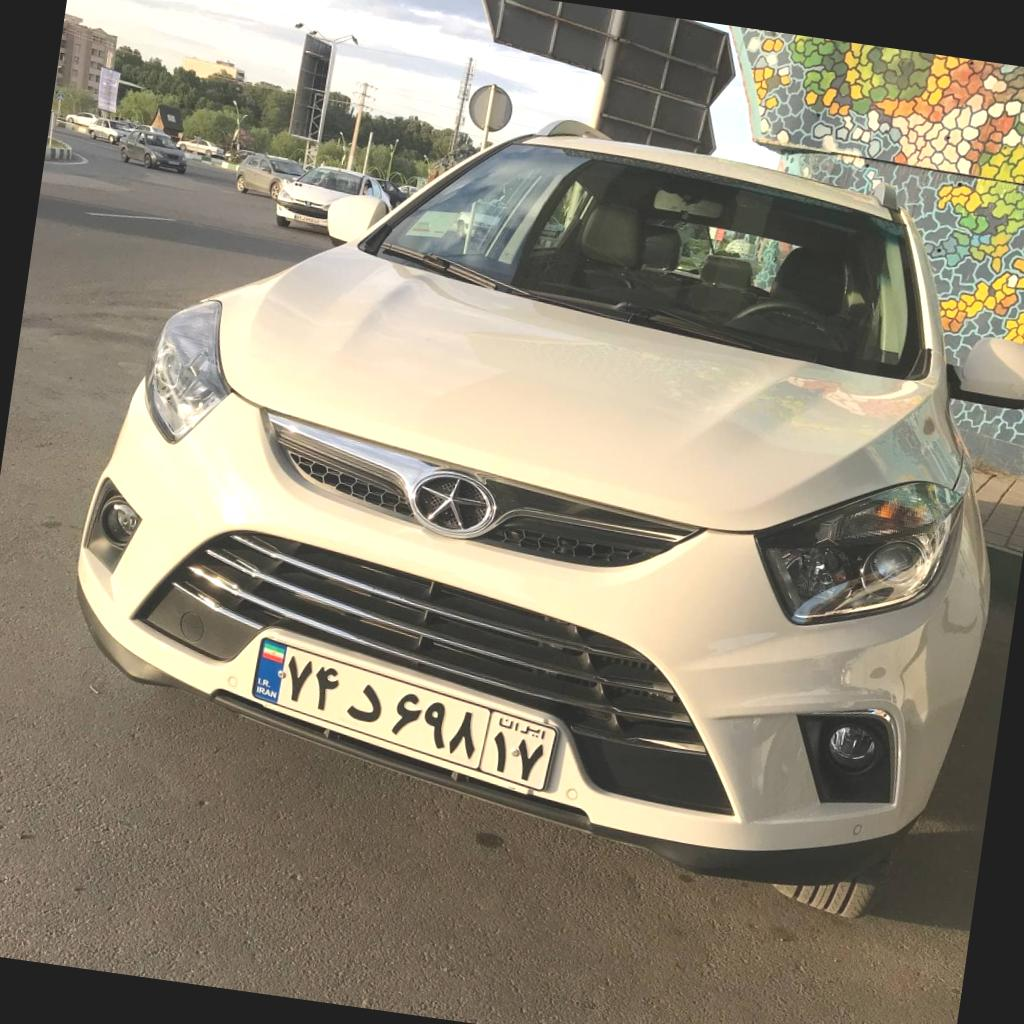Plates: (251, 637, 555, 790)
